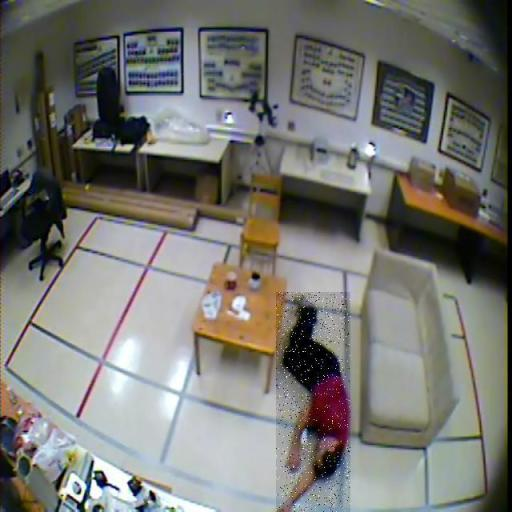Fall: (276, 292, 350, 512)
